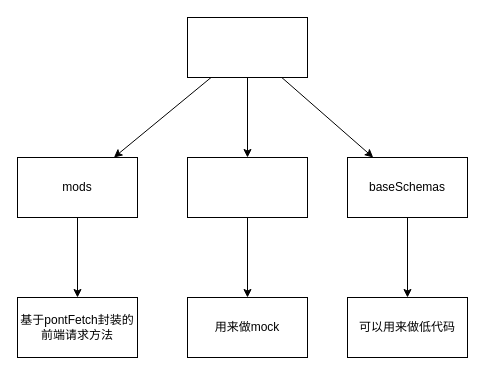
Image size: 485x375. Some labels were removed from this diagram. The centre of each missing label's shape, as x and y in pixels:
"api.doc" goes at point 247,47.
"baseClass.ts" goes at point 247,187.
